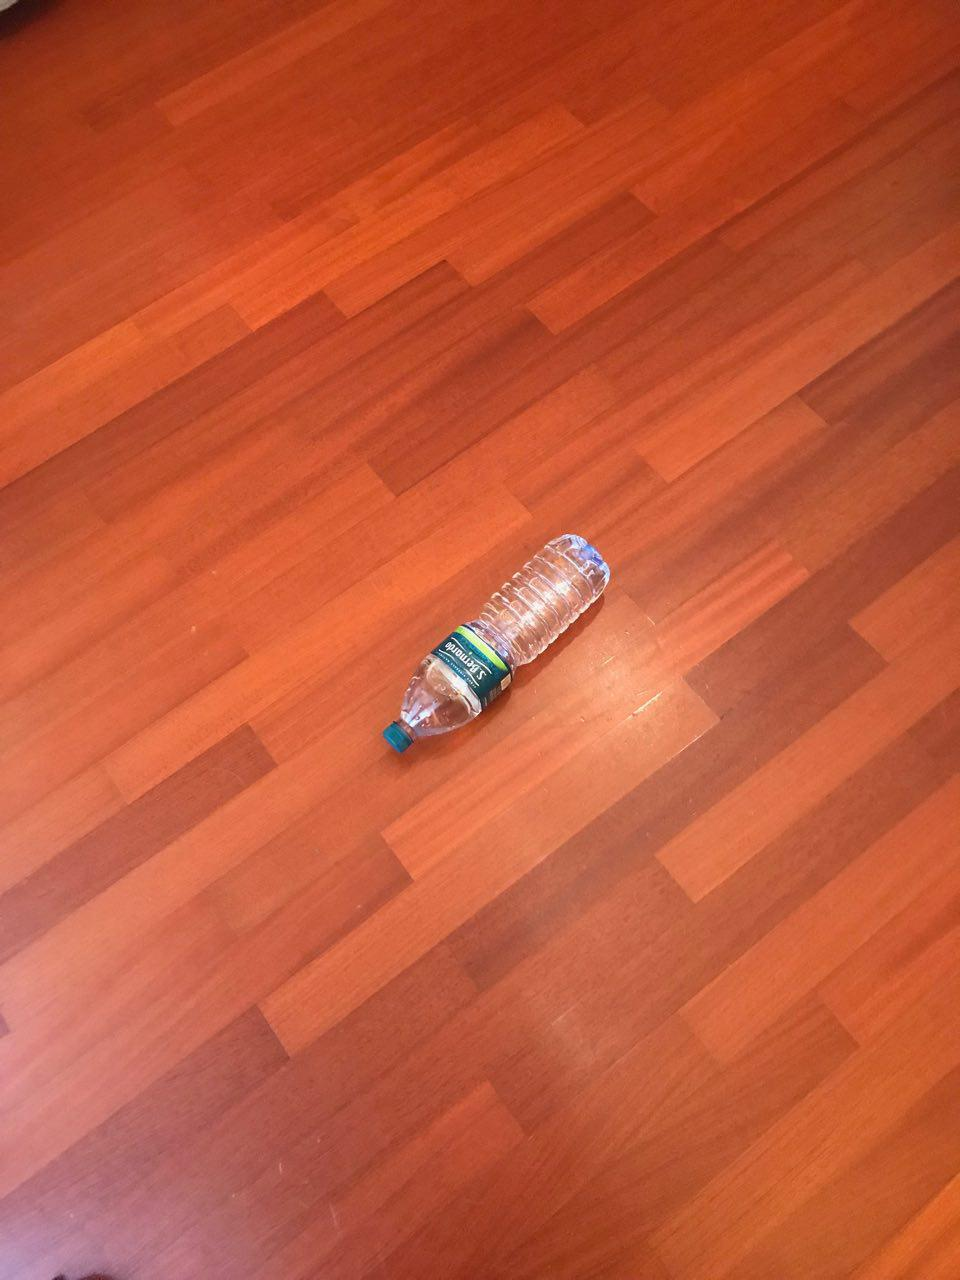san_bernardo: (381, 534, 612, 755)
